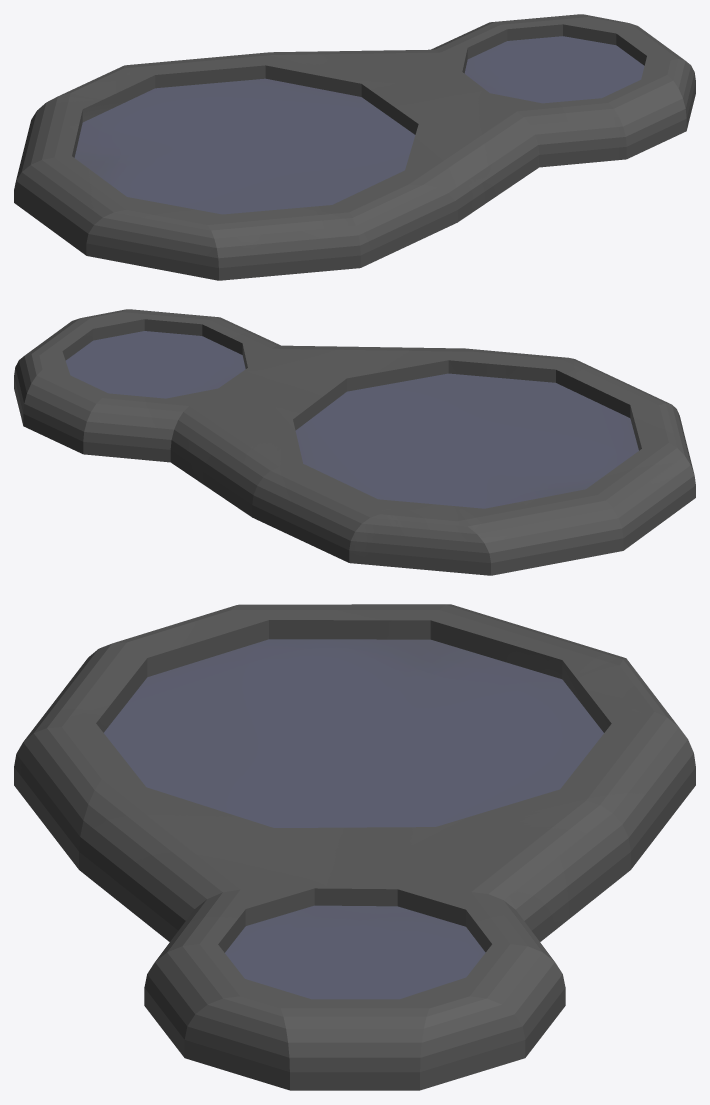
The model's file is gun_mount.glb.
3 views of the same model, one above another, from view 1: azimuth 30°, elevation 25°; view 2: azimuth 150°, elevation 25°; view 3: azimuth 270°, elevation 25° (orthographic). The views are drawn at different scales.
Parts seen in each view (by area): view 1: GunMount; view 2: GunMount; view 3: GunMount.
Boxes of the visible parts, box(x1,y1,x2,y2) form: GunMount: box(14, 14, 695, 280); GunMount: box(14, 309, 695, 575); GunMount: box(14, 604, 695, 1090).
Size of the model in its own units: 3.07 by 0.2 by 2.
1 material, 1 textured.
